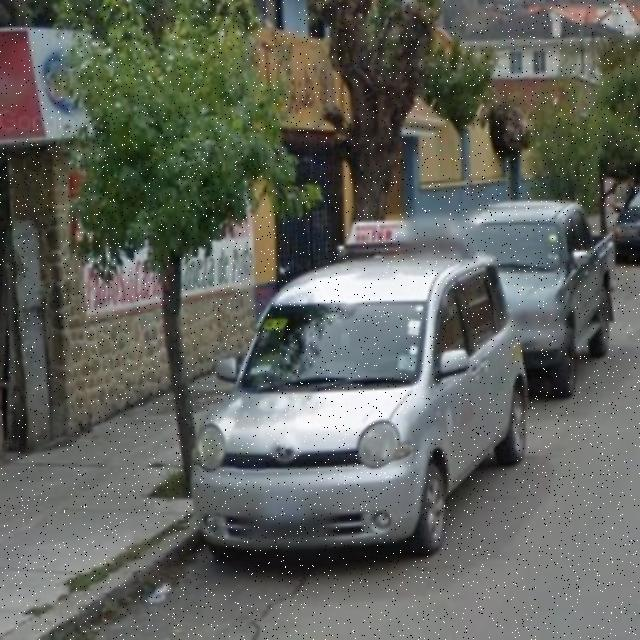cars: (191, 230, 516, 563), (474, 205, 618, 366)
